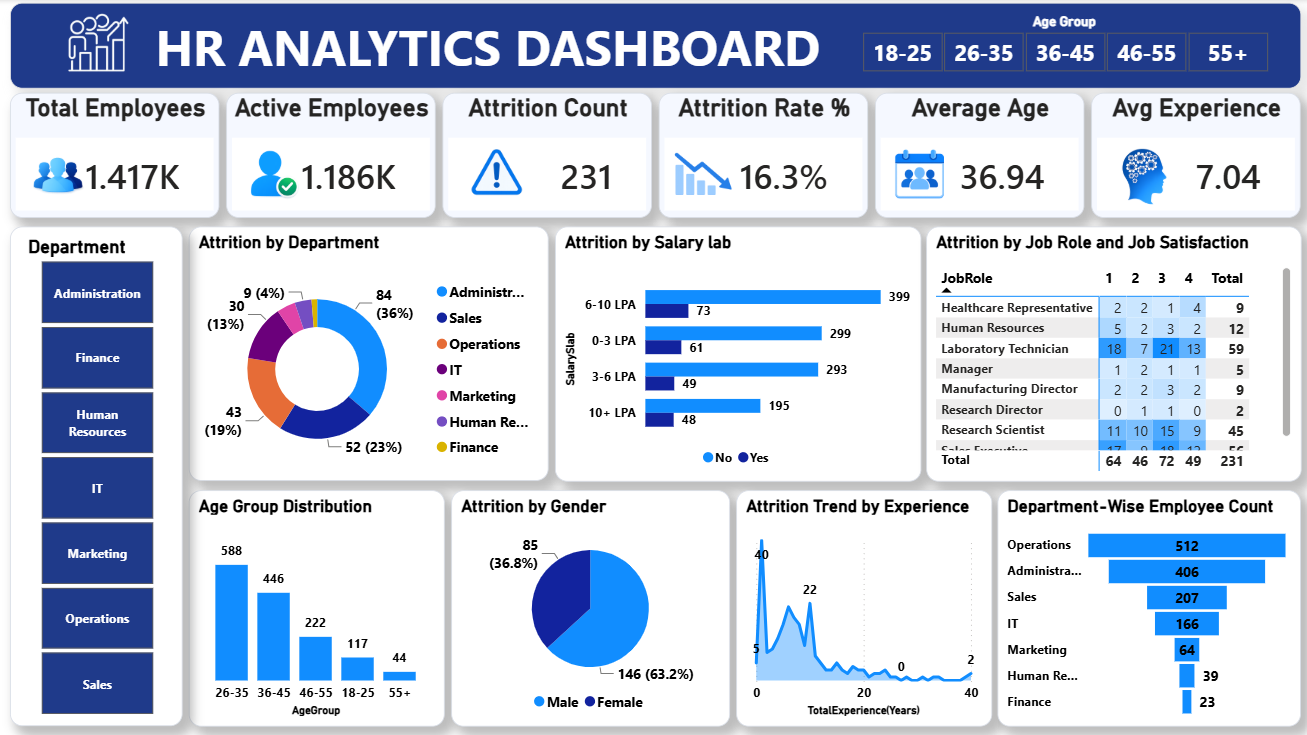

Layout of this report page (visuals, bound fields, positions):
{"tool":"powerbi","page":{"name":"Page 1","canvas":[1280,720],"ordinal":0},"visuals":[{"type":"textbox","box":[9.8,4,1263.2,84],"z":0},{"type":"image","box":[6.1,0,178.5,91.7],"z":1000},{"type":"cardVisual","title":"Total Employees","fields":{"Data":["CountNonNull(HR_Analytics-4.EmpID)"]},"box":[9.8,91.7,205,122],"z":2000},{"type":"cardVisual","title":"Active Employees","fields":{"Data":["CountNonNull(HR_Analytics-4.EmployeeCount)"]},"box":[221.3,91.7,205,122],"z":3000},{"type":"cardVisual","title":"Attrition Count ","fields":{"Data":["Sum(HR_Analytics-4.AttritionCount )"]},"box":[433,91.7,205,122],"z":4000},{"type":"cardVisual","title":"Attrition Rate %","fields":{"Data":["HR_Analytics-4.Attrition Rate %"]},"box":[644,91.7,205,122],"z":5000},{"type":"cardVisual","title":"Average Age","fields":{"Data":["Avg(HR_Analytics-4.Age)"]},"box":[856,91.7,205,122],"z":6000},{"type":"cardVisual","title":"Avg Experience","fields":{"Data":["Avg(HR_Analytics-4.YearsatCompany)"]},"box":[1067.5,91.7,205,122],"z":7000},{"type":"donutChart","title":"Attrition by Department","fields":{"Y":["Sum(HR_Analytics-4.AttritionCount )"],"Category":["HR_Analytics-4.Department"]},"box":[184.6,222.6,352,249],"z":8000},{"type":"clusteredBarChart","title":"Attrition by Salary lab","fields":{"Category":["HR_Analytics-4.SalarySlab"],"Y":["CountNonNull(HR_Analytics-4.EmpID)"],"Series":["HR_Analytics-4.Attrition"]},"box":[542.9,222.6,358,249.5],"z":9000},{"type":"pivotTable","title":"Attrition by Job Role and Job Satisfaction","fields":{"Rows":["HR_Analytics-4.JobRole"],"Values":["Sum(HR_Analytics-4.AttritionCount )"],"Columns":["HR_Analytics-4.JobSatisfaction"]},"box":[906.1,222.6,366.8,249.5],"z":10000},{"type":"columnChart","title":"Age Group Distribution","fields":{"Category":["HR_Analytics-4.AgeGroup"],"Y":["Sum(HR_Analytics-4.EmployeeCount)"]},"box":[184.6,480.6,250,231.1],"z":11000},{"type":"pieChart","title":"Attrition by Gender","fields":{"Category":["HR_Analytics-4.Gender"],"Y":["Sum(HR_Analytics-4.AttritionCount )"]},"box":[441.4,480.6,273,231.1],"z":12000},{"type":"areaChart","title":"Attrition Trend by Experience","fields":{"Category":["HR_Analytics-4.TotalExperience(Years)"],"Y":["Sum(HR_Analytics-4.AttritionCount )"]},"box":[720.2,480.6,250,231.1],"z":13000},{"type":"funnel","title":"Department-Wise Employee Count","fields":{"Category":["HR_Analytics-4.Department"],"Y":["CountNonNull(HR_Analytics-4.EmpID)"]},"box":[975.8,480.6,297.1,231.1],"z":14000},{"type":"slicer","fields":{"Values":["HR_Analytics-4.Department"]},"box":[9.8,222.6,169,489.1],"z":15000},{"type":"slicer","title":"Age Group","fields":{"Values":["HR_Analytics-4.AgeGroup"]},"box":[818.1,14.7,446.3,58.7],"z":16000},{"type":"image","box":[836.2,112.5,126.2,125],"z":17000},{"type":"image","box":[203.8,111.2,120,127.5],"z":18000},{"type":"image","box":[415,111.2,142.5,128.8],"z":19000},{"type":"image","box":[620,116.2,136.2,118.8],"z":20000},{"type":"image","box":[0,106.2,112.5,140],"z":21000},{"type":"image","box":[1067.5,123.8,102.5,98.8],"z":22000}]}

Visuals, with their boxes in screenshot pixels (x1, y1, x2, y2), scaled from the page's 1280x720 canvas onto the 1307x735 screenshot:
textbox: 10, 4, 1300, 90
image: 6, 0, 188, 94
"Total Employees" cardVisual: 10, 94, 219, 218
"Active Employees" cardVisual: 226, 94, 435, 218
"Attrition Count " cardVisual: 442, 94, 651, 218
"Attrition Rate %" cardVisual: 658, 94, 867, 218
"Average Age" cardVisual: 874, 94, 1083, 218
"Avg Experience" cardVisual: 1090, 94, 1299, 218
"Attrition by Department" donutChart: 188, 227, 548, 481
"Attrition by Salary lab" clusteredBarChart: 554, 227, 920, 482
"Attrition by Job Role and Job Satisfaction" pivotTable: 925, 227, 1300, 482
"Age Group Distribution" columnChart: 188, 491, 444, 727
"Attrition by Gender" pieChart: 451, 491, 729, 727
"Attrition Trend by Experience" areaChart: 735, 491, 991, 727
"Department-Wise Employee Count" funnel: 996, 491, 1300, 727
slicer - HR_Analytics-4.Department: 10, 227, 183, 727
"Age Group" slicer: 835, 15, 1291, 75
image: 854, 115, 983, 242
image: 208, 114, 331, 244
image: 424, 114, 569, 245
image: 633, 119, 772, 240
image: 0, 108, 115, 251
image: 1090, 126, 1195, 227
